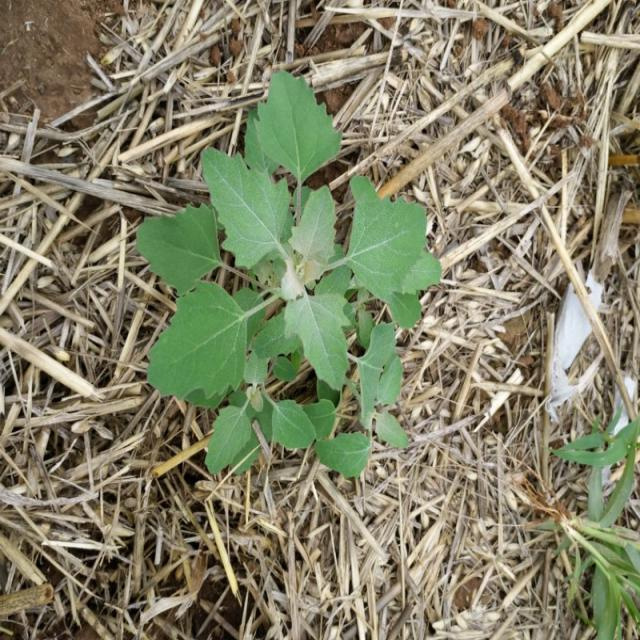goosefoots: (134, 84, 443, 450)
